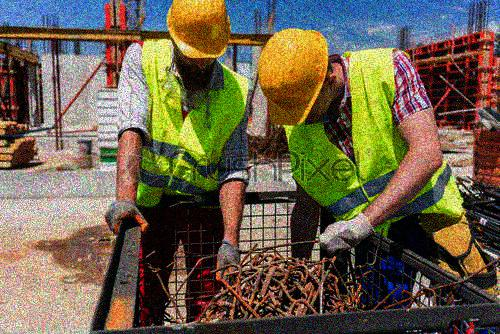helmet: (256, 27, 334, 125), (165, 1, 234, 75)
